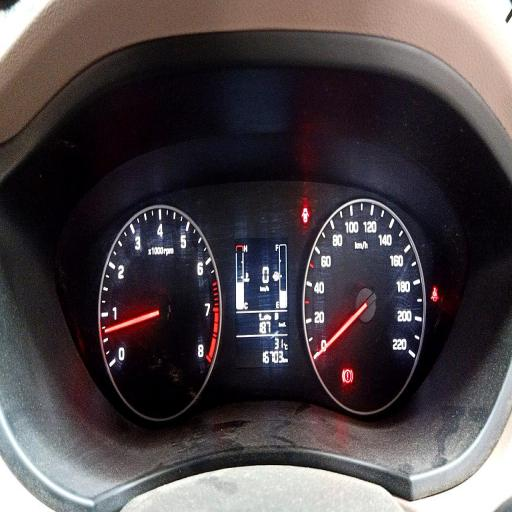belt: (431, 284, 438, 302)
tachometer: (100, 204, 223, 420)
